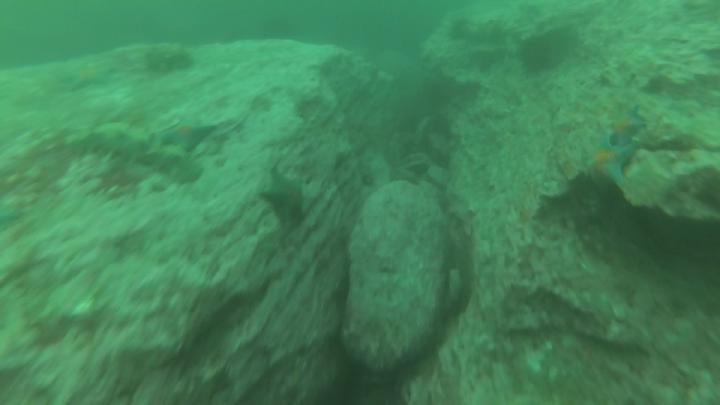echinus: (515, 35, 559, 79)
holothurian: (75, 123, 200, 188), (143, 45, 195, 76)
starfish: (259, 165, 309, 231), (585, 135, 639, 192), (162, 119, 224, 154), (602, 103, 649, 149), (61, 61, 120, 94)
